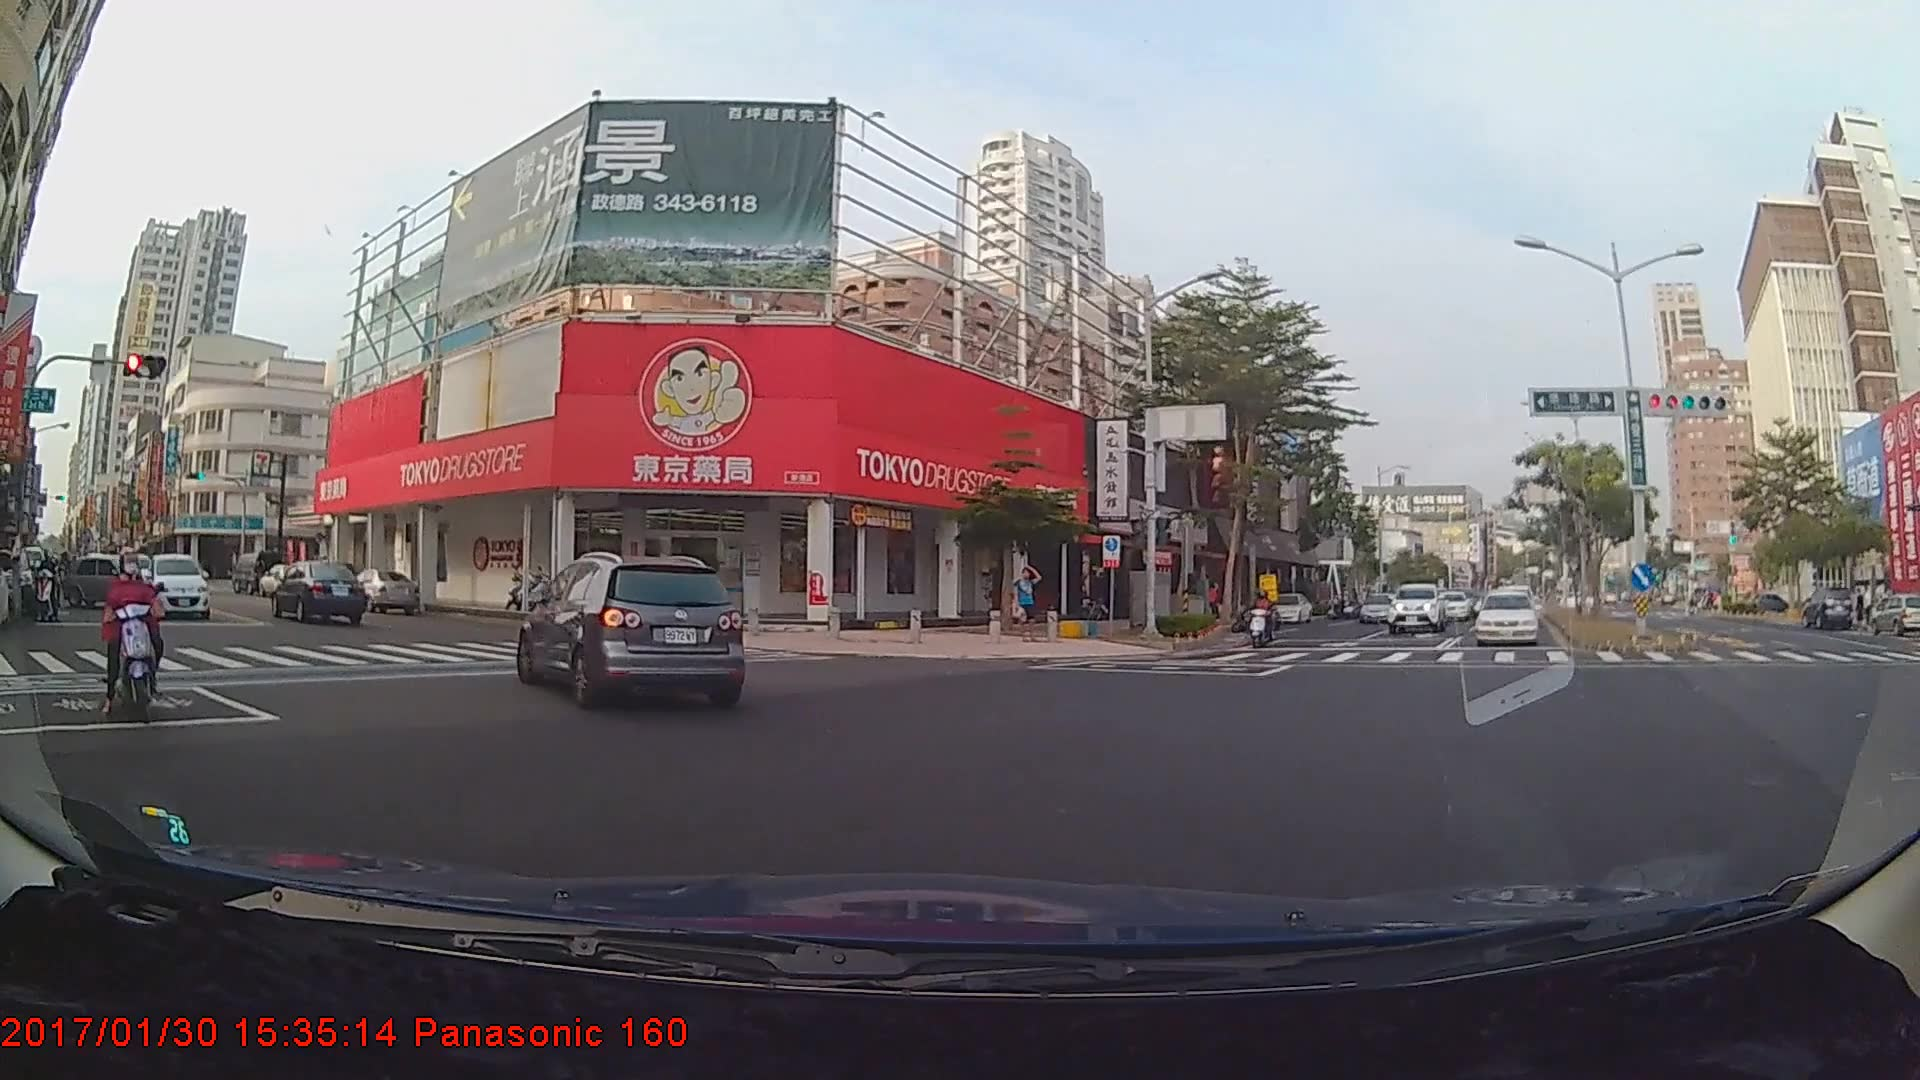pedestrian: (1015, 565, 1044, 643)
rider: (88, 546, 169, 752), (1245, 588, 1283, 652), (34, 543, 63, 623)
vehicle: (517, 554, 744, 708), (272, 560, 364, 625), (59, 554, 153, 607), (142, 556, 210, 622), (336, 567, 420, 616), (1473, 592, 1540, 647), (1386, 583, 1446, 635), (1262, 594, 1312, 625), (1801, 588, 1836, 630), (1358, 590, 1395, 623), (1435, 590, 1470, 622)
